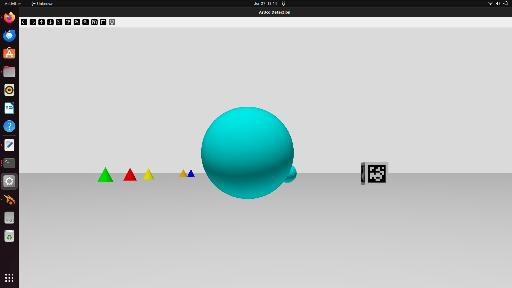blue_cone: (187, 168, 194, 178)
green_cone: (96, 167, 114, 183)
orange_cone: (179, 169, 186, 178)
red_cone: (123, 168, 137, 181)
yellow_cone: (142, 168, 154, 181)
